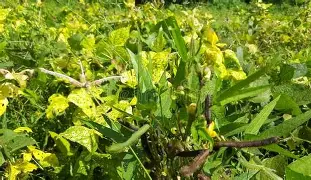crops: (0, 14, 303, 172), (127, 43, 177, 122)
